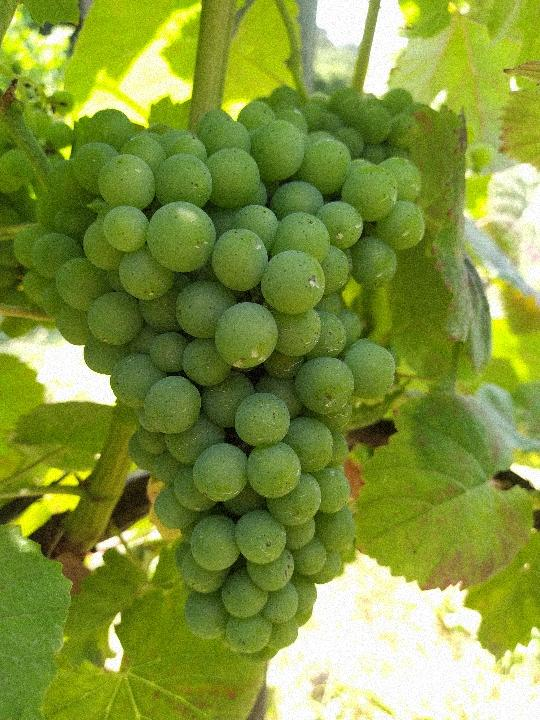grape: (11, 102, 428, 662)
